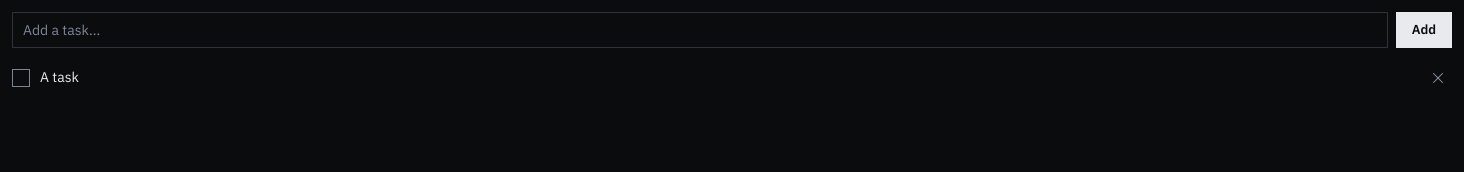
toggling a todo › adopts the server copy once it arrives
The width and height of the screenshot is (1464, 172).
Click the checkbox named "\"A task\"" at x=21, y=78, box [12, 69, 30, 87]
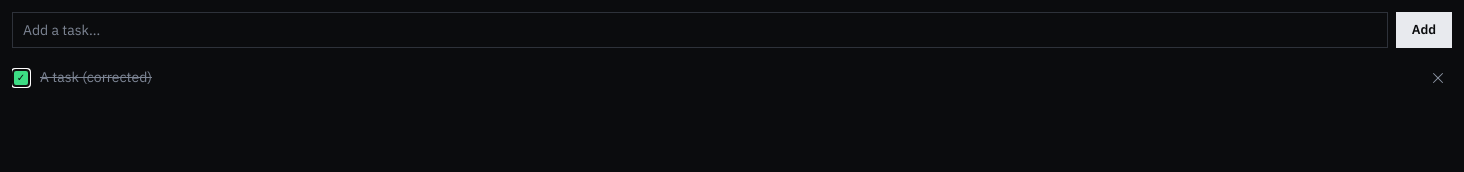
expect the button "A task (corrected)" is shown: met, box [36, 66, 1418, 90]
